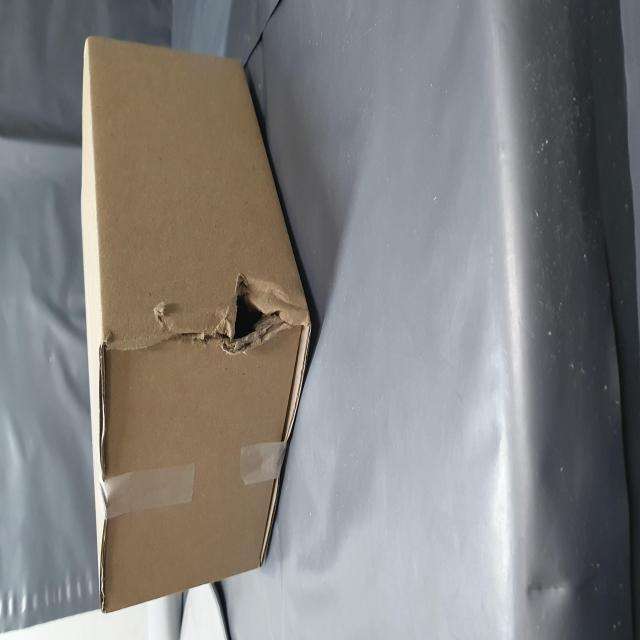damaged: (153, 401, 215, 522)
